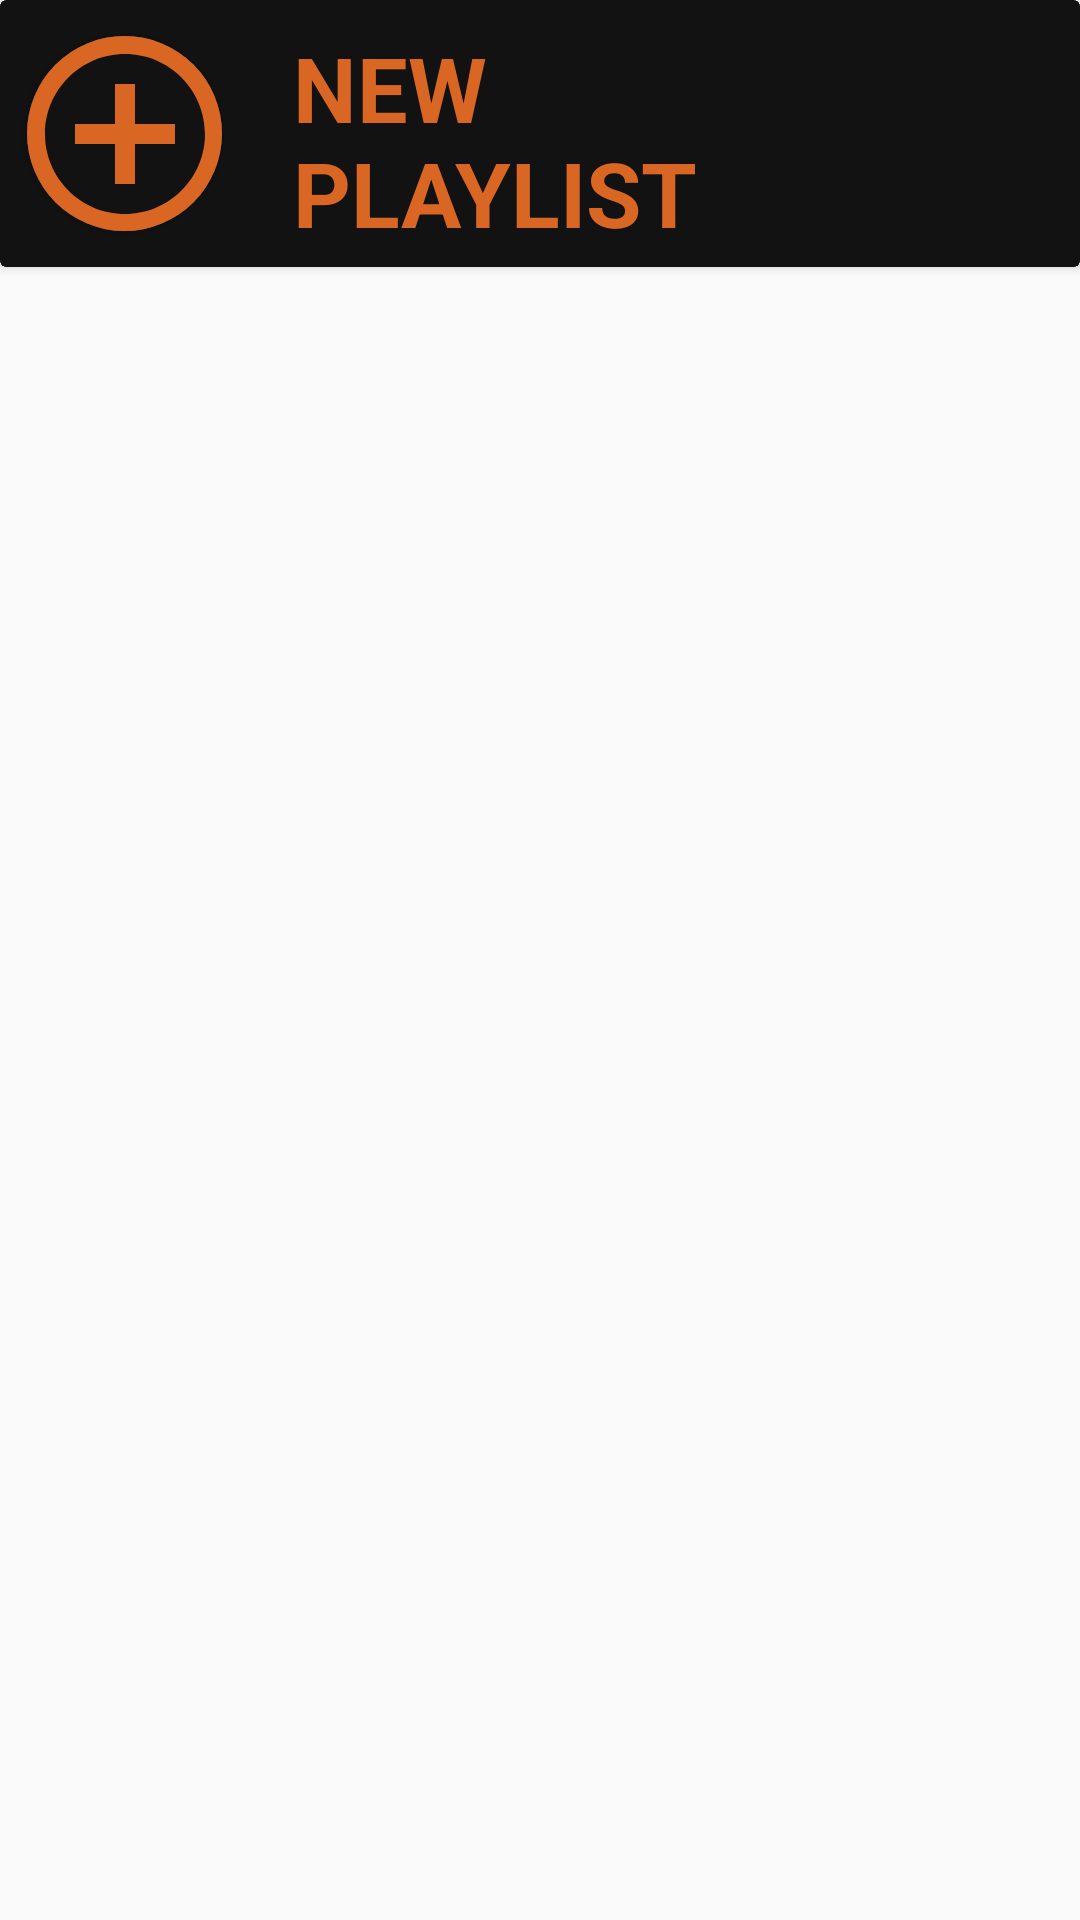

Locate icon controls on the screen. Image size 1080 × 1920, boxes as {"left": x1, "top": y1, "right": x2, "bottom": y2}.
add playlist: {"left": 27, "top": 36, "right": 222, "bottom": 231}
